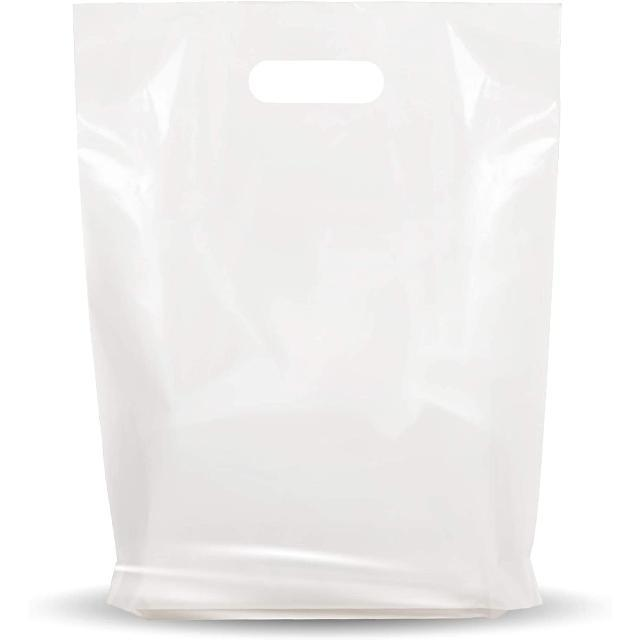plastic: (75, 0, 560, 616)
